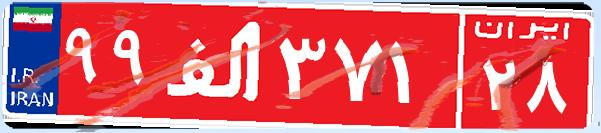1: (385, 28, 445, 110)
2: (475, 38, 525, 113)
3: (273, 28, 330, 110)
7: (330, 28, 385, 110)
8: (525, 38, 570, 115)
9: (57, 26, 110, 107), (110, 28, 158, 105)
الف: (158, 15, 273, 115)
